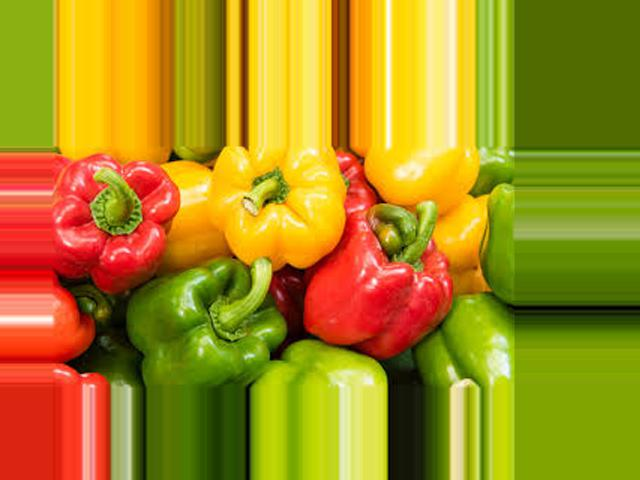bell_pepper: (54, 151, 194, 292)
